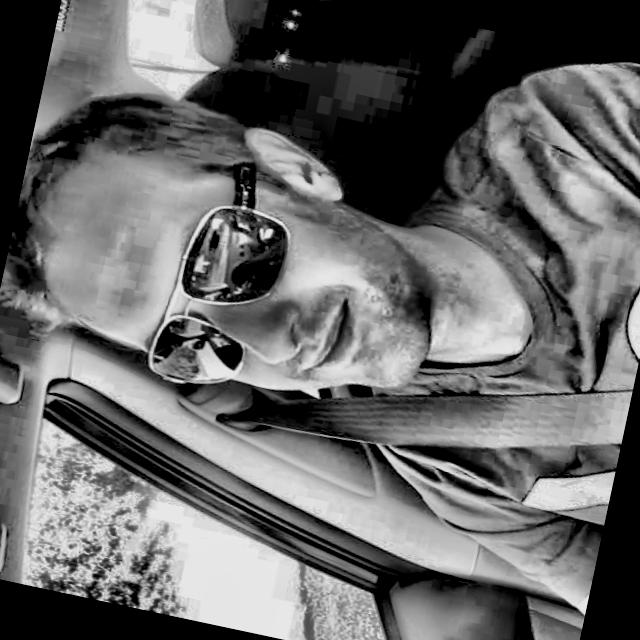closed_mouth: (292, 277, 386, 401)
